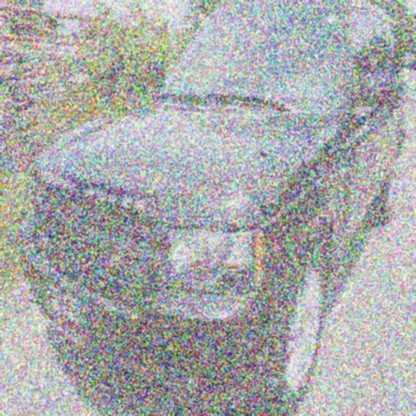Vehicle: (15, 0, 408, 416)
